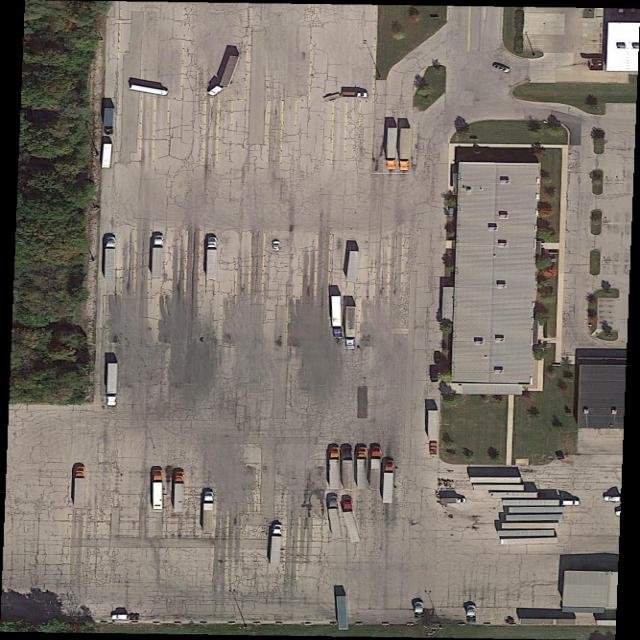large-vehicle: (205, 55, 249, 98), (338, 501, 365, 542), (325, 497, 344, 536), (321, 90, 370, 103), (327, 447, 341, 490), (74, 465, 86, 510), (504, 500, 581, 507), (151, 235, 164, 276), (331, 297, 344, 338), (386, 128, 399, 169), (152, 467, 164, 511), (107, 363, 119, 406), (202, 492, 214, 534), (345, 307, 357, 349), (400, 129, 412, 171), (105, 236, 116, 281), (371, 447, 382, 491), (344, 448, 355, 491), (206, 238, 217, 281), (130, 84, 169, 96), (357, 447, 367, 490), (384, 461, 393, 504), (174, 471, 183, 513), (272, 525, 280, 567), (104, 108, 115, 135)
small-vehicle: (491, 63, 512, 74), (440, 498, 467, 504), (414, 602, 425, 613), (466, 605, 477, 615), (273, 241, 281, 252)
